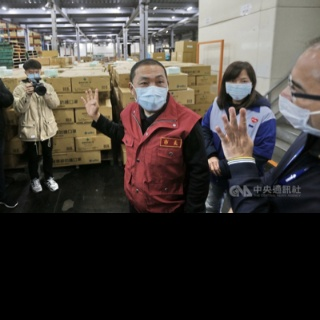with_mask: (277, 69, 320, 136), (133, 72, 168, 112), (224, 76, 252, 100), (27, 69, 40, 82)
